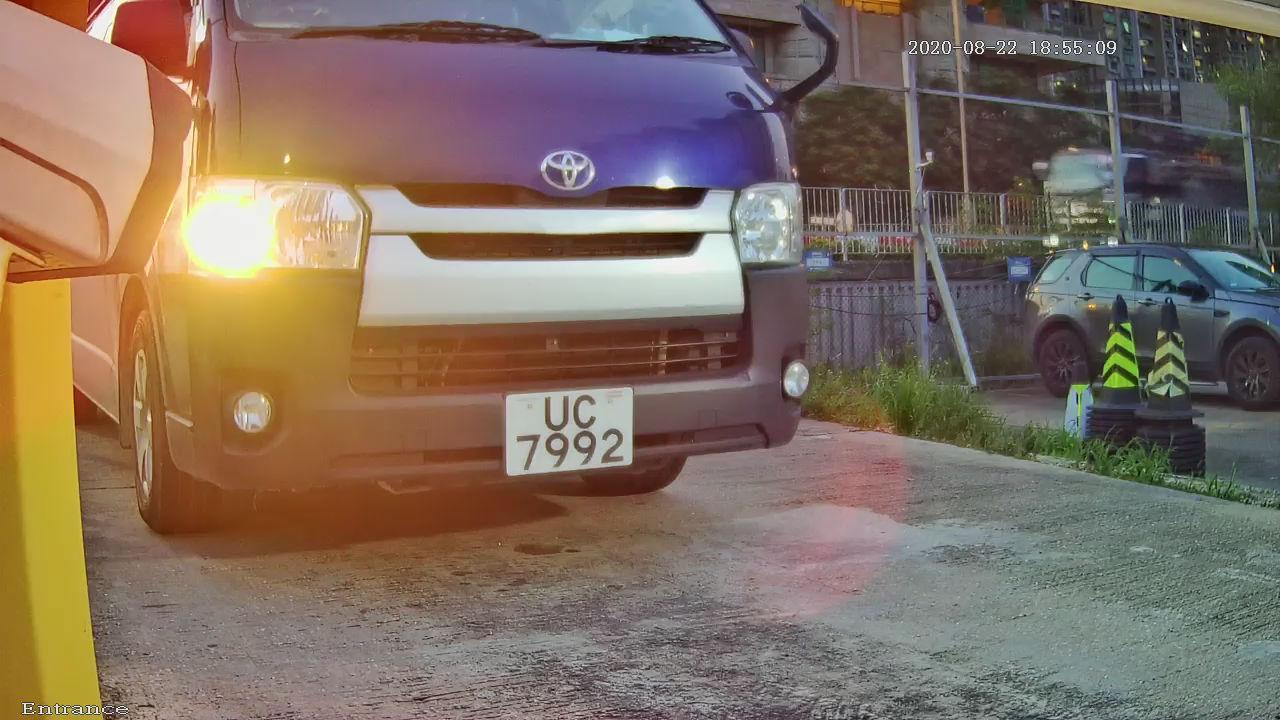License Plate: (461, 340, 687, 512)
